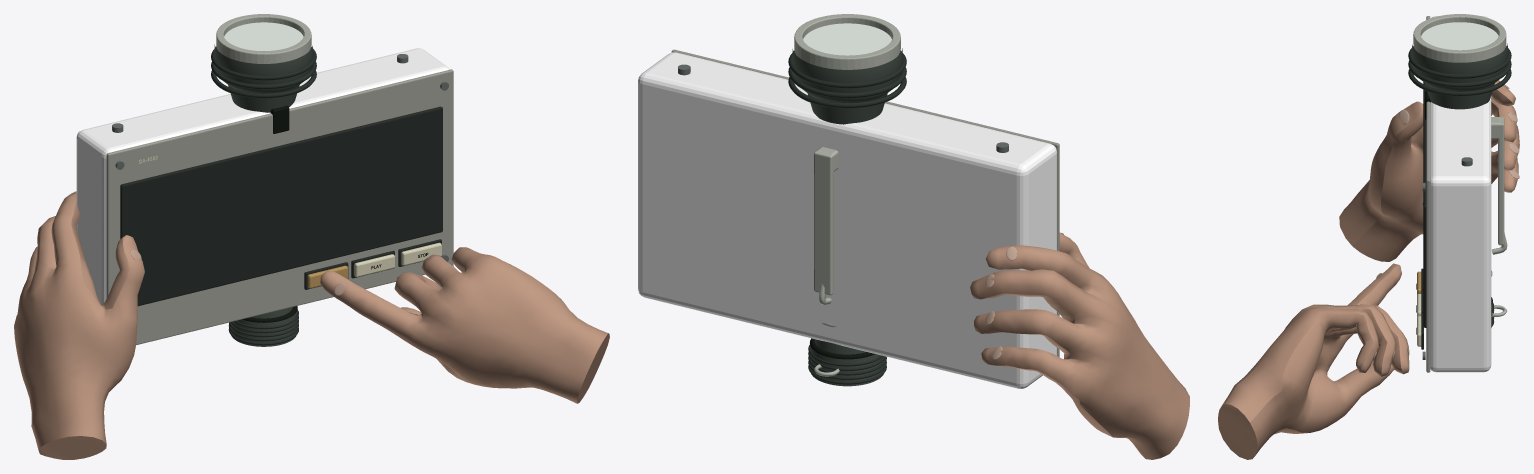
Rendered from field-recorder-rig.glb.
3 views of the same model, side by side, from view 1: azimuth 30°, elevation 25°; view 2: azimuth 150°, elevation 25°; view 3: azimuth 270°, elevation 25° (orthographic). The views are drawn at different scales.
Parts seen in each view (by area): view 1: recorder-2, recorder-1, right-0, left-0, recorder-0, flashlight-housing, graphite, steel, flashlight-lens, recorder-5, rubber; view 2: recorder-0, left-0, steel, flashlight-housing, graphite, flashlight-lens, recorder-1; view 3: right-0, recorder-0, left-0, steel, flashlight-housing, graphite, flashlight-lens, recorder-1, recorder-2.
Part boxes in pixels (x1,y1,x2,y2): recorder-2: (120, 106, 442, 306); recorder-1: (106, 69, 453, 344); right-0: (320, 247, 609, 403); left-0: (14, 192, 144, 459); recorder-0: (76, 48, 449, 304); flashlight-housing: (214, 44, 313, 346); graphite: (211, 46, 316, 345); steel: (216, 14, 311, 63); flashlight-lens: (224, 22, 303, 50); recorder-5: (139, 155, 441, 276); rubber: (242, 105, 297, 322); recorder-0: (638, 52, 1056, 388); left-0: (970, 232, 1189, 459); steel: (794, 14, 900, 376); flashlight-housing: (792, 48, 902, 386); graphite: (788, 50, 906, 384); flashlight-lens: (803, 23, 891, 55); recorder-1: (671, 49, 1059, 357); right-0: (1218, 263, 1409, 459); recorder-0: (1430, 16, 1491, 372); left-0: (1339, 80, 1519, 261); steel: (1413, 14, 1507, 316); flashlight-housing: (1412, 43, 1507, 323); graphite: (1408, 46, 1511, 327); flashlight-lens: (1421, 22, 1498, 50); recorder-1: (1426, 16, 1430, 372); recorder-2: (1416, 82, 1426, 349).
Size of the model in its own units: 0.3933 by 0.2593 by 0.2107.
